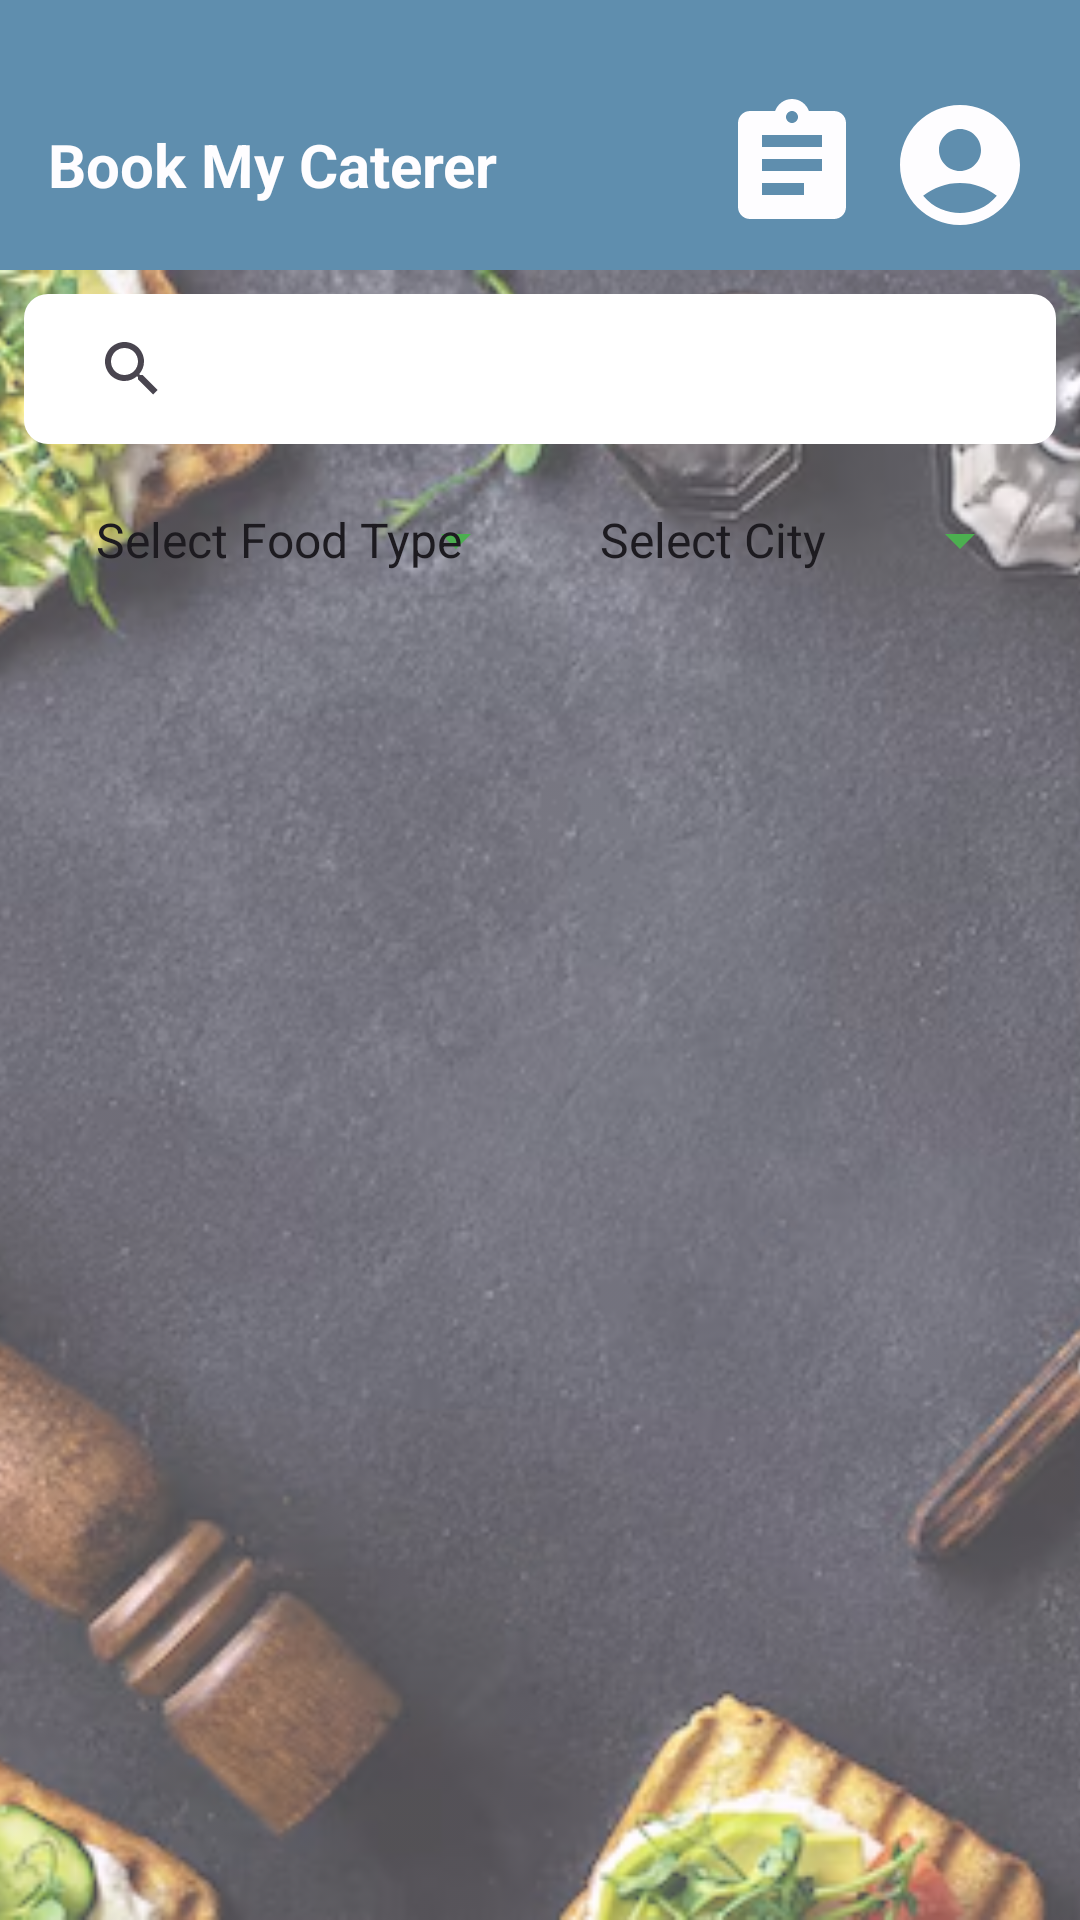

Named icons in this screenshot (1080px x 1920px) and their bounding boxes, bbox=[x1, y1, x2, y2]:
Orders Button: bbox=[738, 99, 846, 219]
Profile Button: bbox=[900, 105, 1020, 225]
